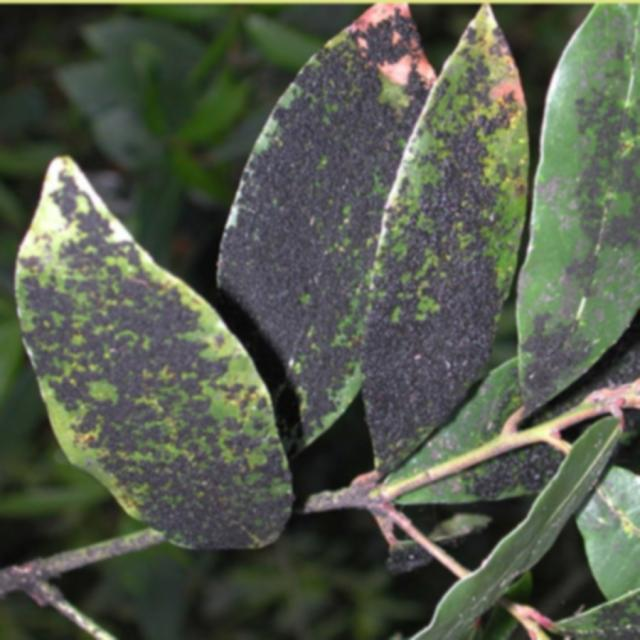Sooty Mold: (1, 1, 639, 640)
